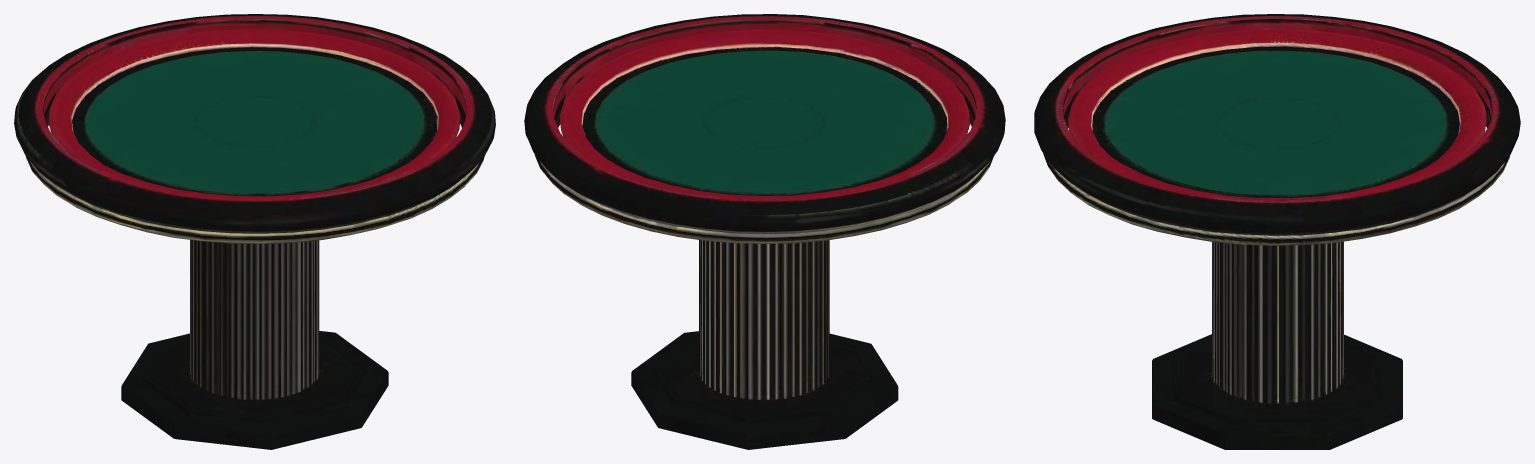
Rendered from table_deco.glb.
The picture shows the model from 3 angles, left to right: view 1: azimuth 30°, elevation 25°; view 2: azimuth 150°, elevation 25°; view 3: azimuth 270°, elevation 25°; orthographic projection.
Parts seen in each view (by area): view 1: mesh_node; view 2: mesh_node; view 3: mesh_node.
Boxes of the visible parts, x1,y1,x2,y2 form: mesh_node: [14, 14, 495, 449]; mesh_node: [524, 14, 1005, 449]; mesh_node: [1034, 14, 1520, 449].
Bounding box in the file's own units: 1.91 × 1.24 × 1.91.
Materials: 1 (1 with a texture image).
